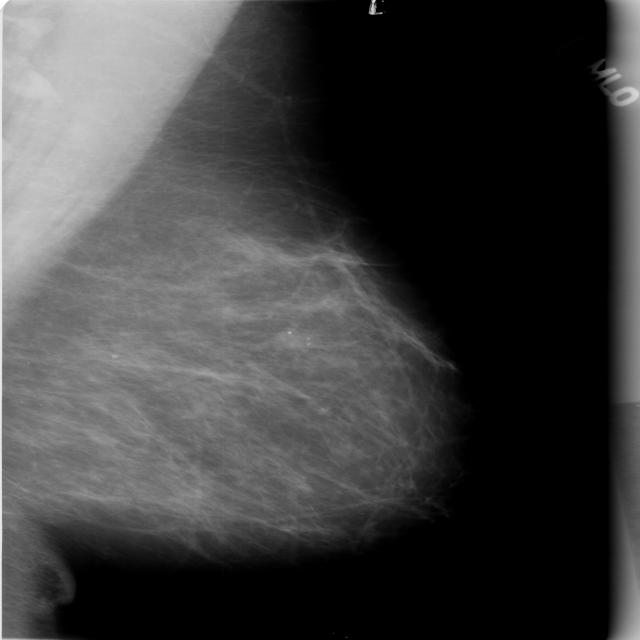normal: (0, 0, 447, 571)
